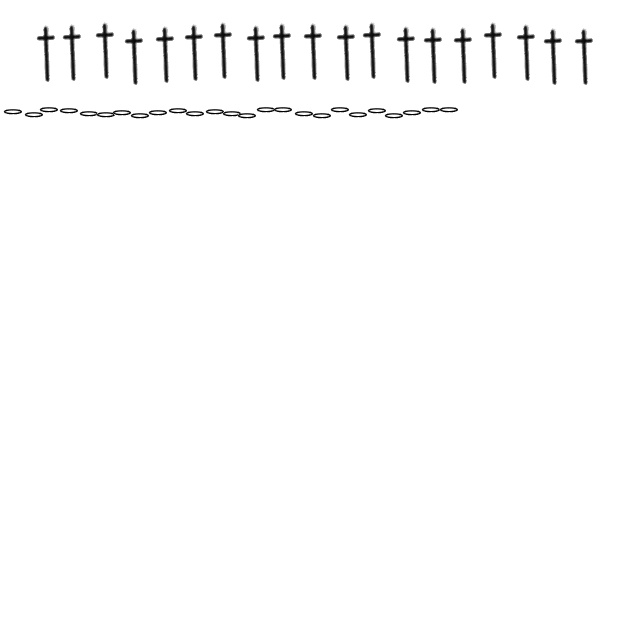chain: (2, 108, 24, 116), (23, 111, 45, 119), (38, 106, 60, 114), (58, 107, 80, 115), (78, 110, 100, 118), (95, 111, 117, 119), (111, 109, 133, 117), (129, 112, 151, 120), (147, 109, 169, 117), (167, 107, 189, 115), (184, 110, 206, 118), (204, 108, 226, 116), (221, 110, 243, 118), (236, 112, 258, 120), (255, 106, 277, 114), (272, 106, 294, 114), (293, 110, 315, 118), (311, 112, 333, 120), (329, 106, 351, 114), (347, 111, 369, 119), (366, 107, 388, 115), (383, 112, 405, 120), (401, 109, 423, 117), (420, 106, 442, 114), (438, 106, 460, 114)
enseble_chain: (30, 25, 64, 83), (56, 24, 90, 82), (89, 22, 123, 80), (118, 28, 152, 86), (149, 26, 183, 84), (178, 24, 212, 82), (207, 22, 241, 80), (240, 25, 274, 83), (266, 23, 300, 81), (297, 23, 331, 81), (330, 24, 364, 82), (356, 22, 390, 80), (390, 26, 424, 84), (417, 27, 451, 85), (447, 27, 481, 85), (477, 22, 511, 80), (510, 24, 544, 82), (537, 28, 571, 86), (568, 28, 602, 86)
